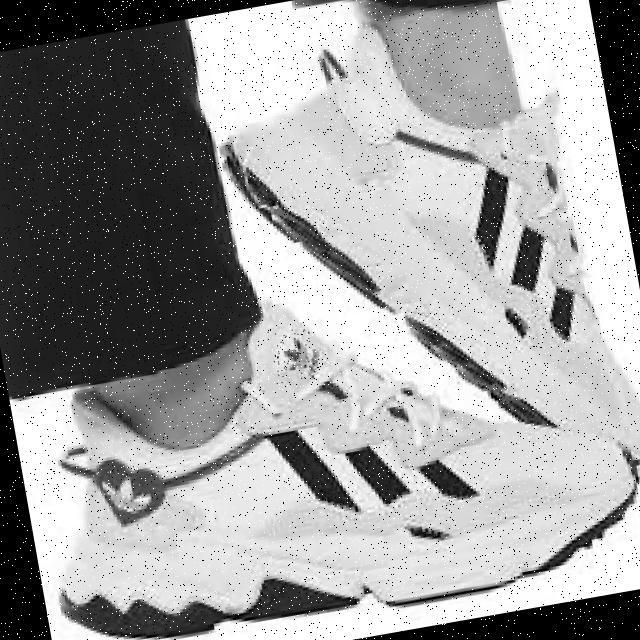Adidas: (80, 459, 162, 539), (266, 324, 317, 385)
